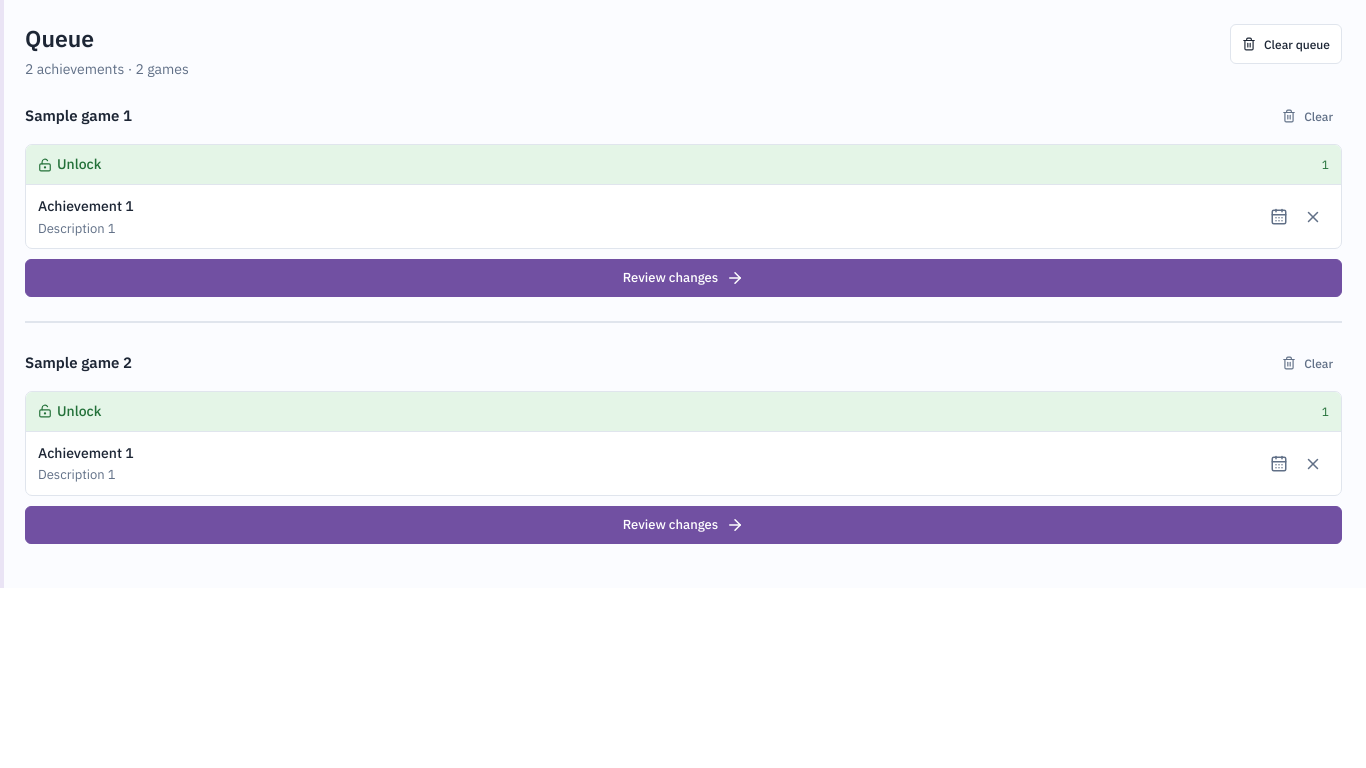
saves the modal date for its queue without requesting an apply
Click the 2nd button named "Edit date for Achievement 1": (1279, 464) [1263, 448, 1295, 480]
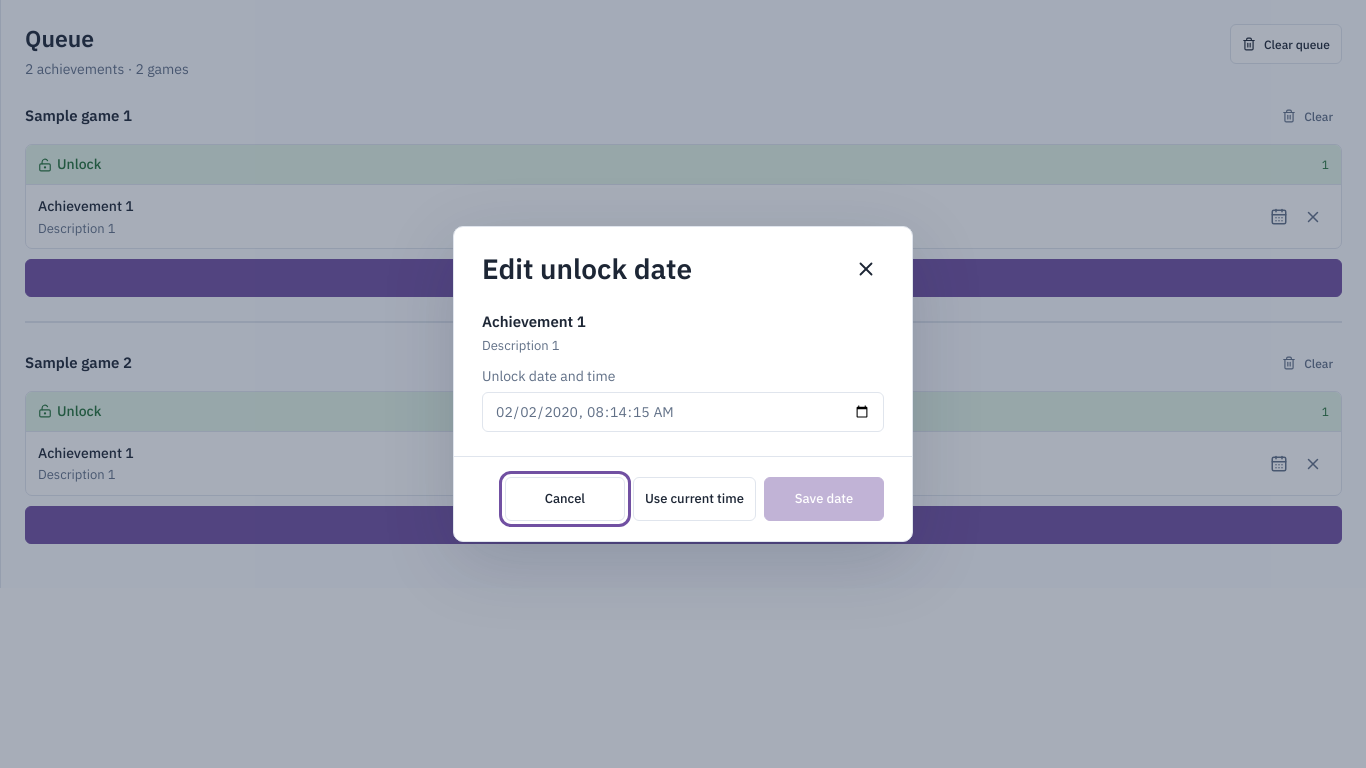
Replace the text in the field named "Unlock date for Achievement 1" with "2020-03-03T10:11:12": (683, 412) [482, 392, 884, 432]
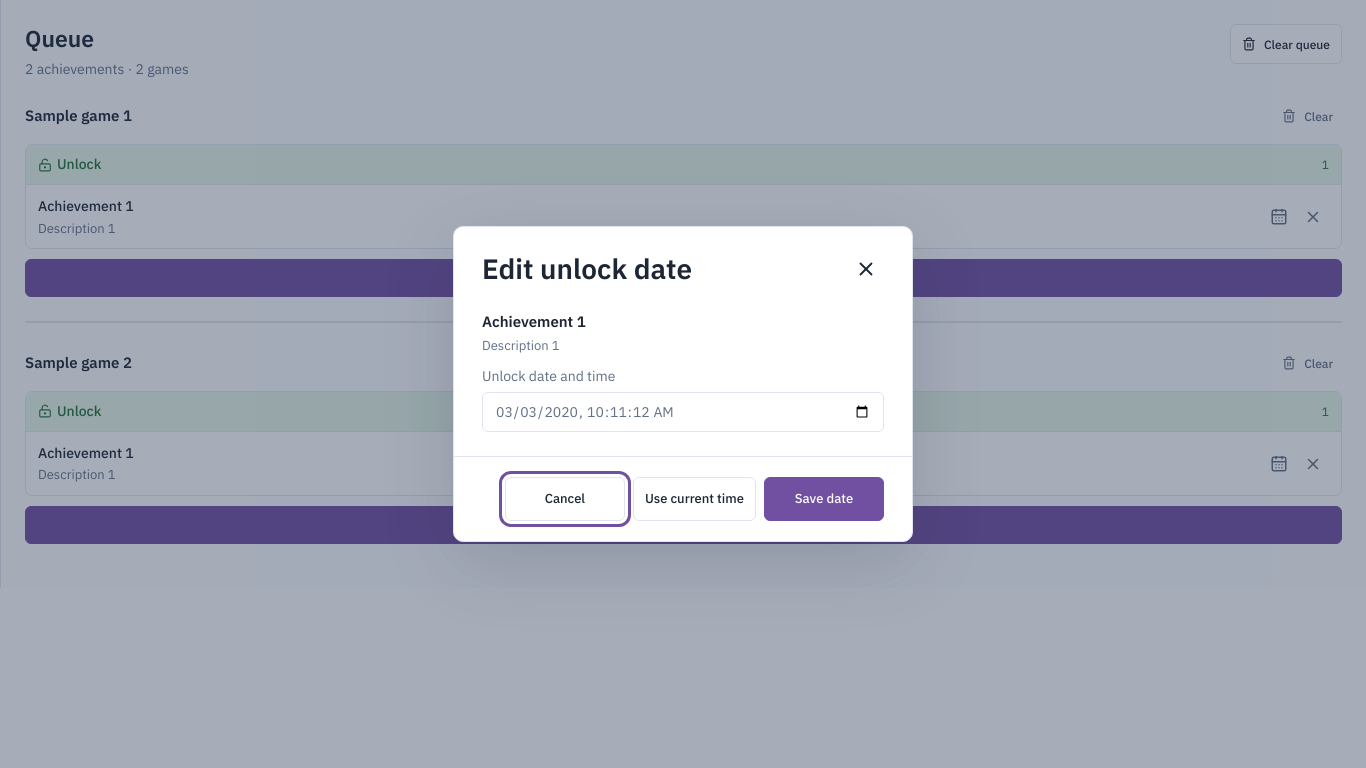
Click the button "Save date": (824, 499) [764, 477, 884, 521]
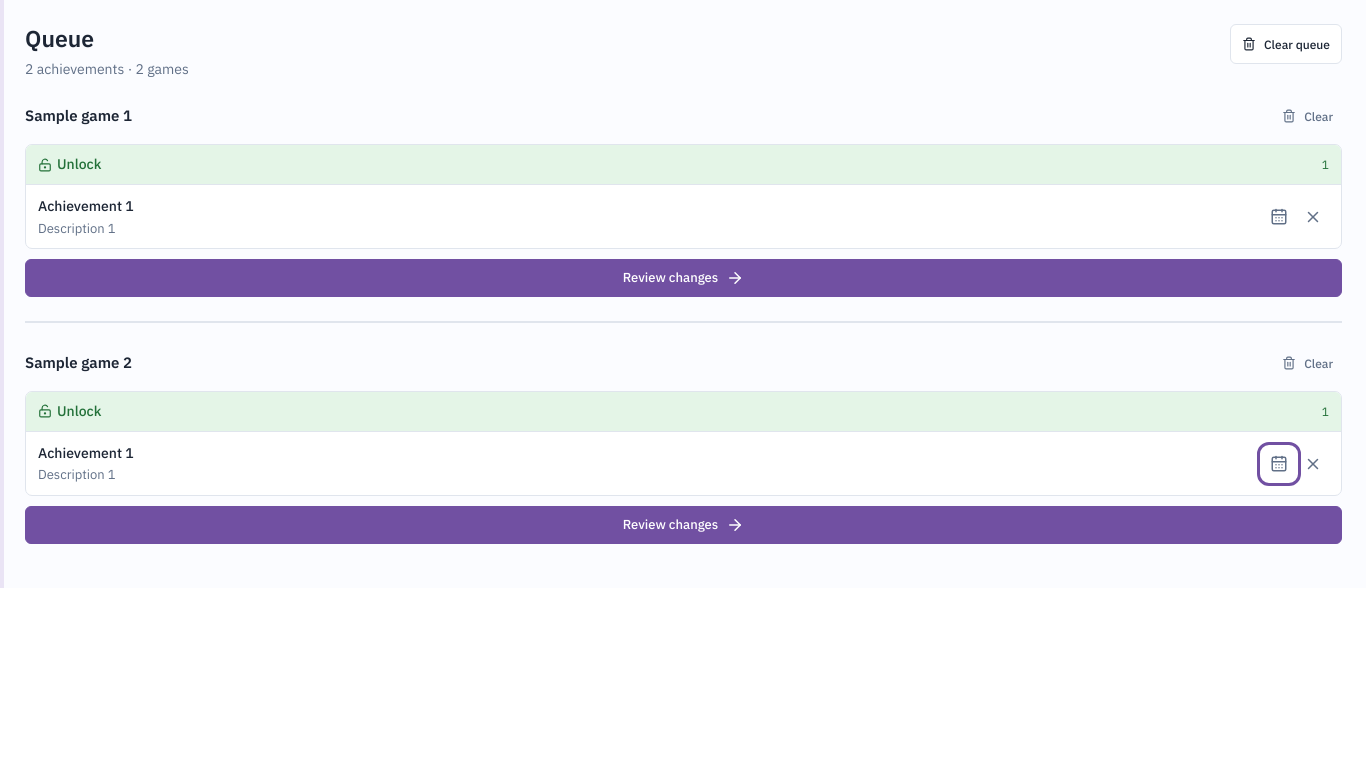
Result: the dialog is gone
